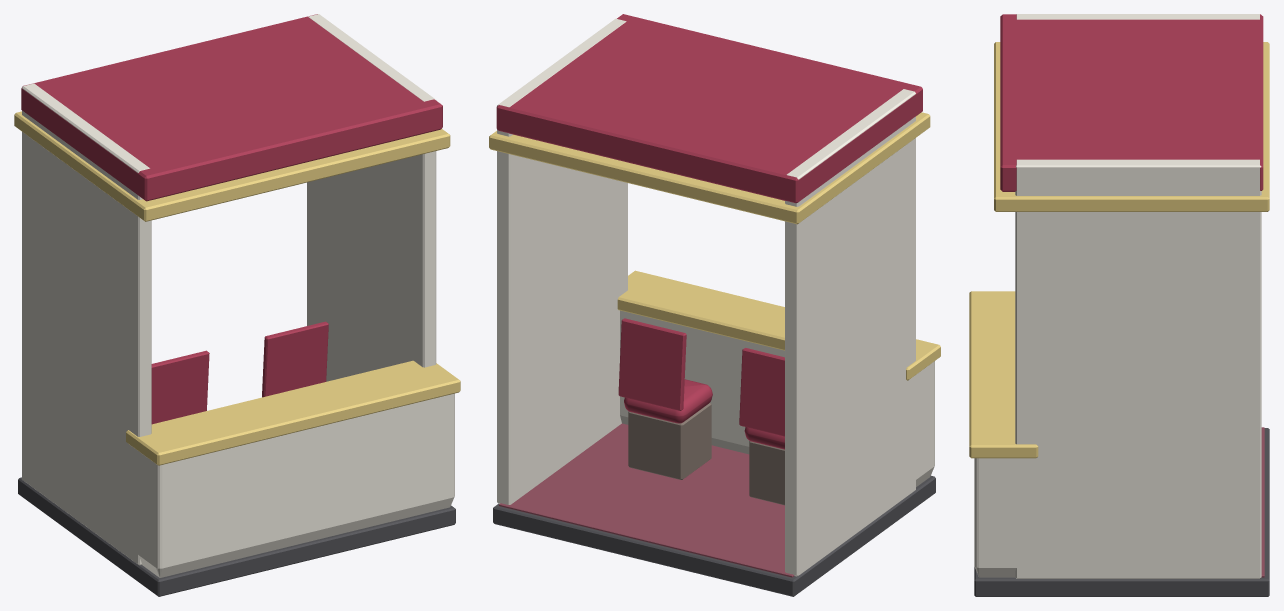
File: theatre-stage-and-backstage-box-seating-unit-0c0f5168__35897.glb
3 views of the same model, side by side, from view 1: azimuth 30°, elevation 25°; view 2: azimuth 150°, elevation 25°; view 3: azimuth 270°, elevation 25° (orthographic). The views are drawn at different scales.
Parts seen in each view (by area): view 1: box-seating-unit; view 2: box-seating-unit; view 3: box-seating-unit.
Part boxes in pixels (x1,y1,x2,y2): box-seating-unit: (14,14,460,596); box-seating-unit: (489,14,940,596); box-seating-unit: (969,14,1269,596).
Bounding box in the file's own units: 2.26 × 2.9 × 1.83.
